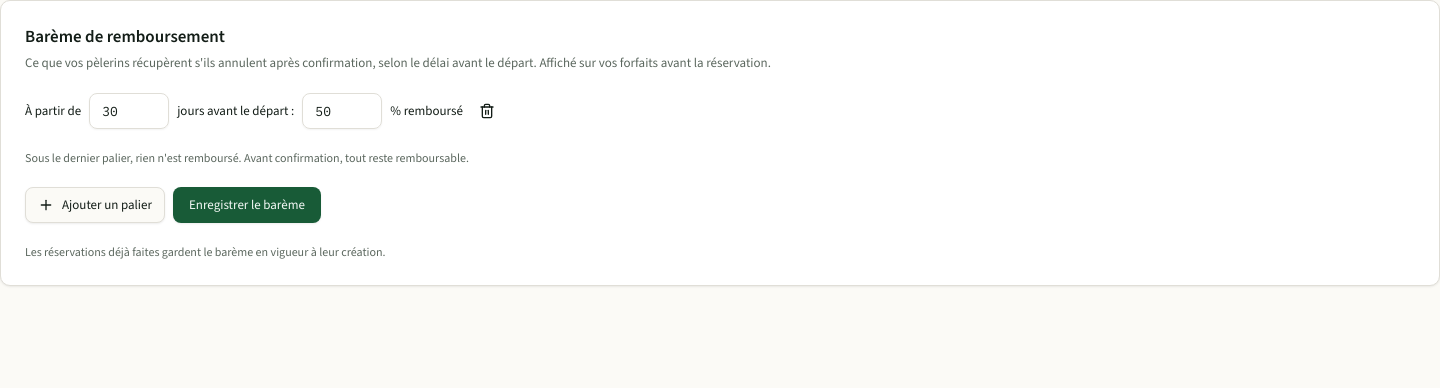
Test: RefundPolicyEditor (idée #58) › signale un taux qui remonte à l'approche du départ
Expected: the field named "Jours avant le départ, palier 1" is shown, [89,93,169,129]
Click the button "Ajouter un palier" at (95, 205), box [25,187,165,223]
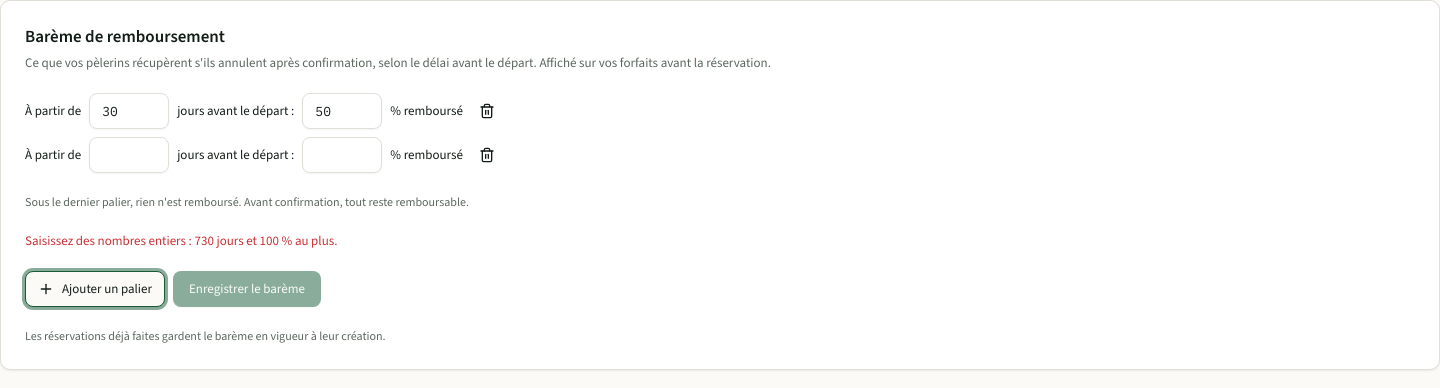
Type "7" into the field named "Jours avant le départ, palier 2" at (129, 155), box [89,137,169,173]
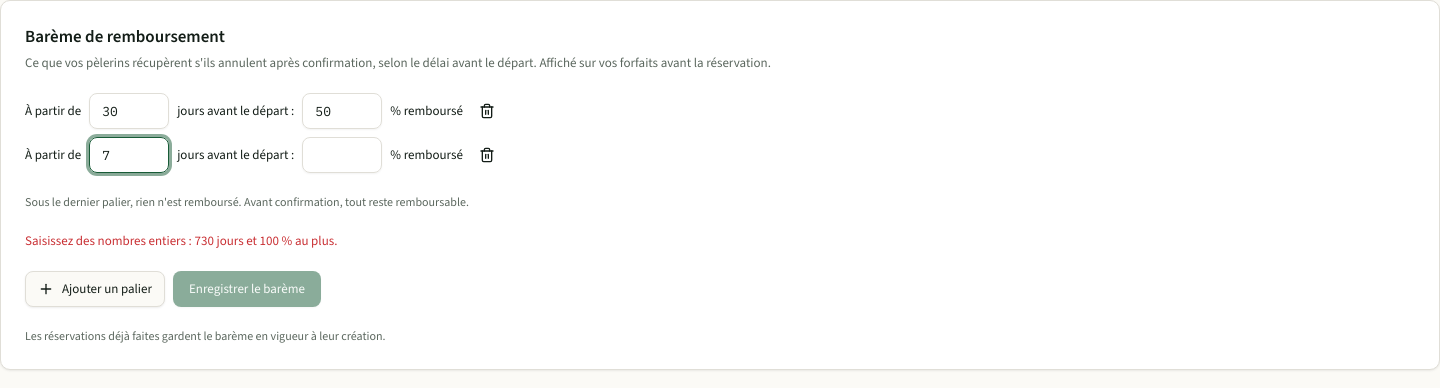
Type "80" into the field named "Pourcentage remboursé, palier 2" at (342, 155), box [302,137,382,173]
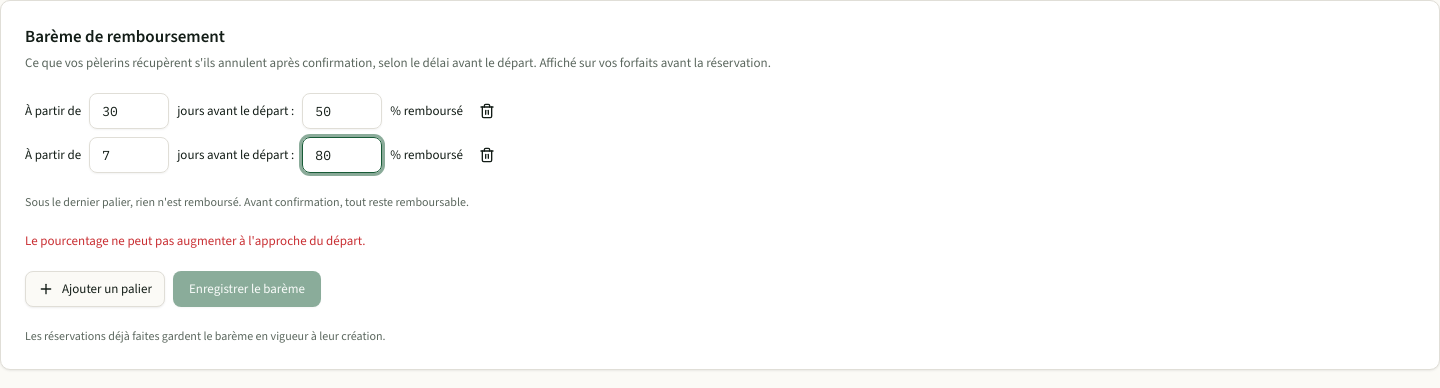
Now the button "Enregistrer le barème" is disabled, box [173,271,321,307]
Now the message shows "Le pourcentage ne peut pas augmenter", box [25,232,366,249]
